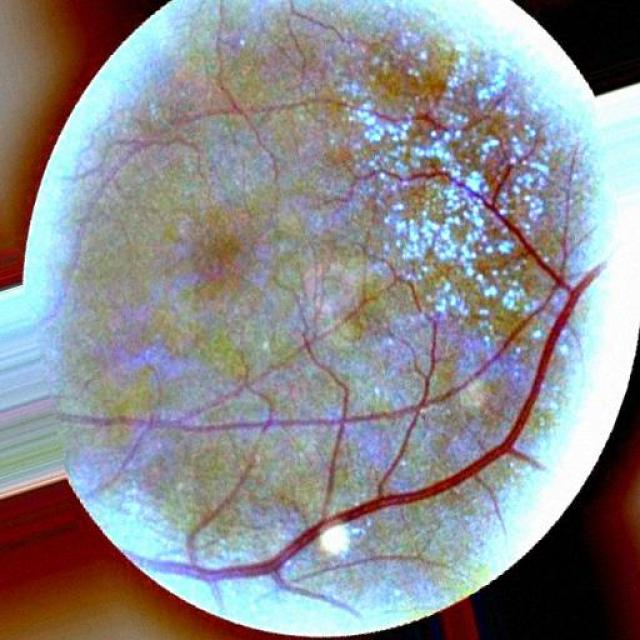Macula: (187, 222, 259, 296)
Nerves: (155, 268, 591, 591)
